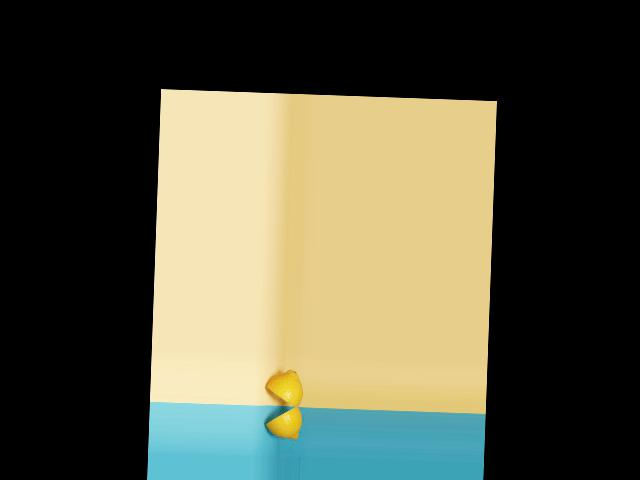lemon: (262, 404, 304, 444)
